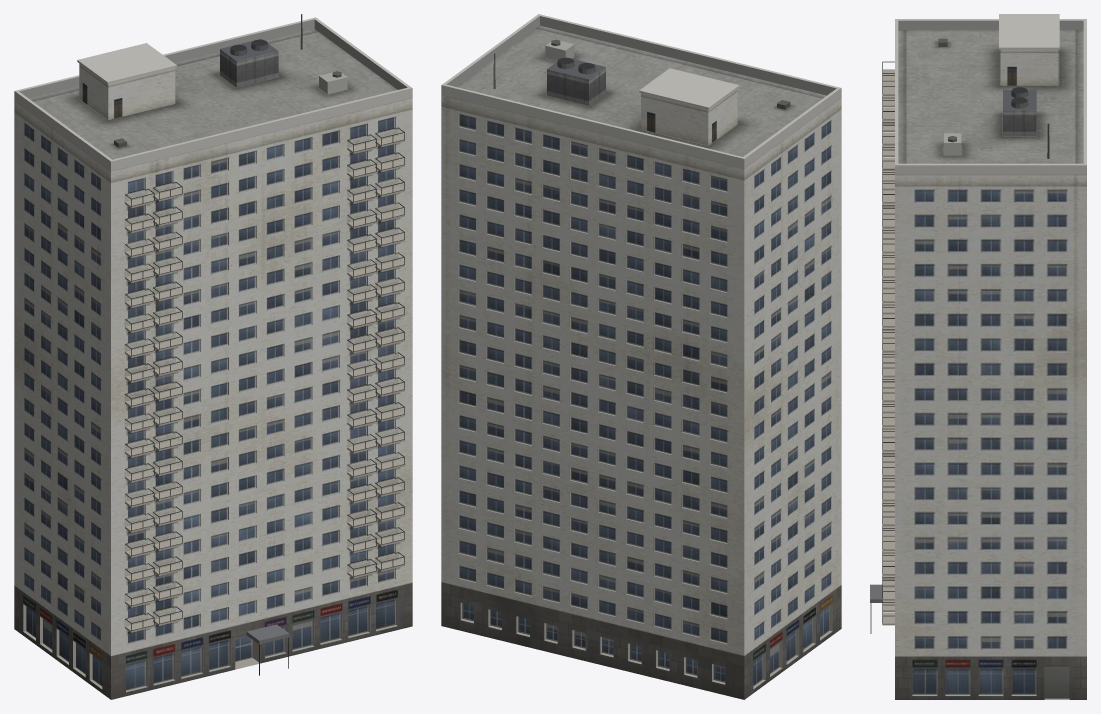
File: nyc_whitebrick_a.glb
3 renders of one model, left to right at view 1: azimuth 30°, elevation 25°; view 2: azimuth 150°, elevation 25°; view 3: azimuth 270°, elevation 25°, orthographic.
Visible parts, largest first — view 1: nyc_whitebrick_a; view 2: nyc_whitebrick_a; view 3: nyc_whitebrick_a.
Boxes of the visible parts, box(x1,y1,x2,y2) form: nyc_whitebrick_a: box(14, 14, 412, 699); nyc_whitebrick_a: box(441, 14, 841, 699); nyc_whitebrick_a: box(870, 14, 1086, 699).
Bounding box in the file's own units: 36 × 64.77 × 22.6.
1 material, 1 textured.
